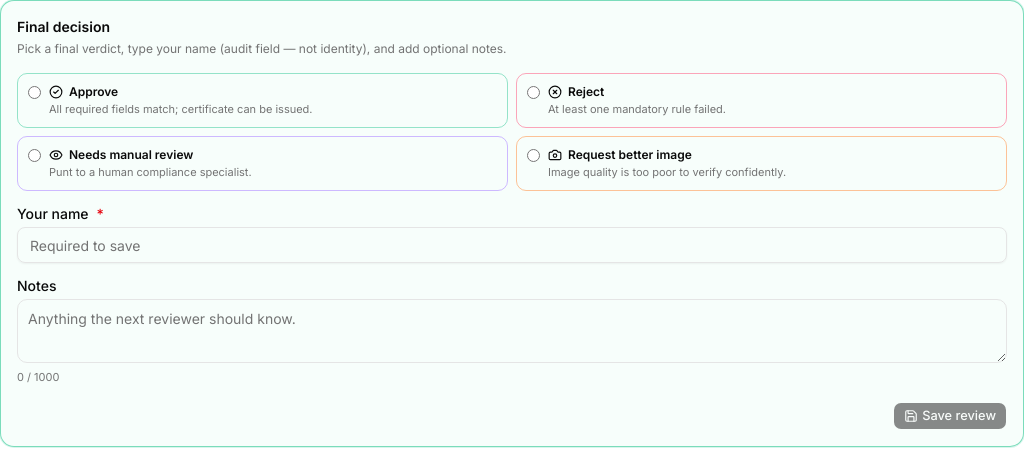
Test case: FinalDecisionPanel › requires both a reviewer name and a decision before save is enabled
This screenshot has width=1024, height=465.
Expected: the button "Save review" is disabled, [893,402,1007,430]
Click the radio button labelled "Approve": click(34, 92) [28,86,41,99]
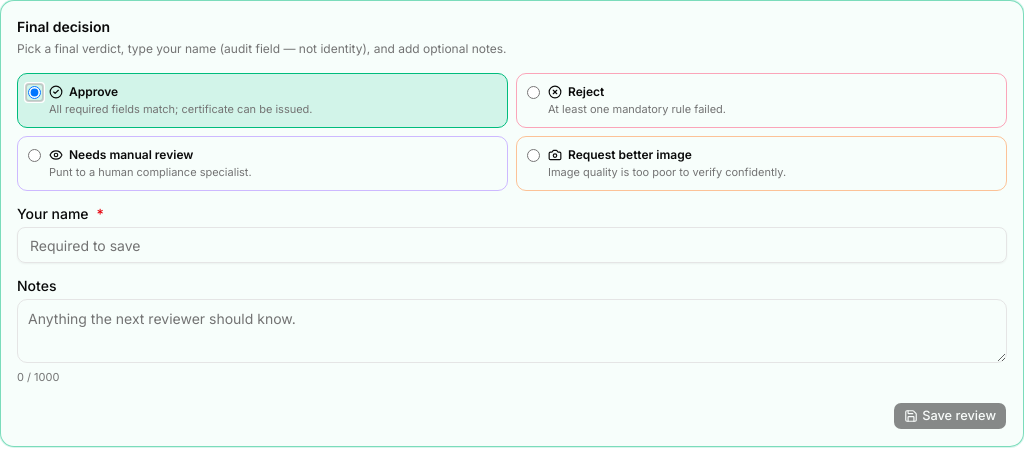
Expected: the button "Save review" is disabled, [893,402,1007,430]
In the field labelled "Your name *": (512, 245) [17,227,1007,263], type "Jane Doe"
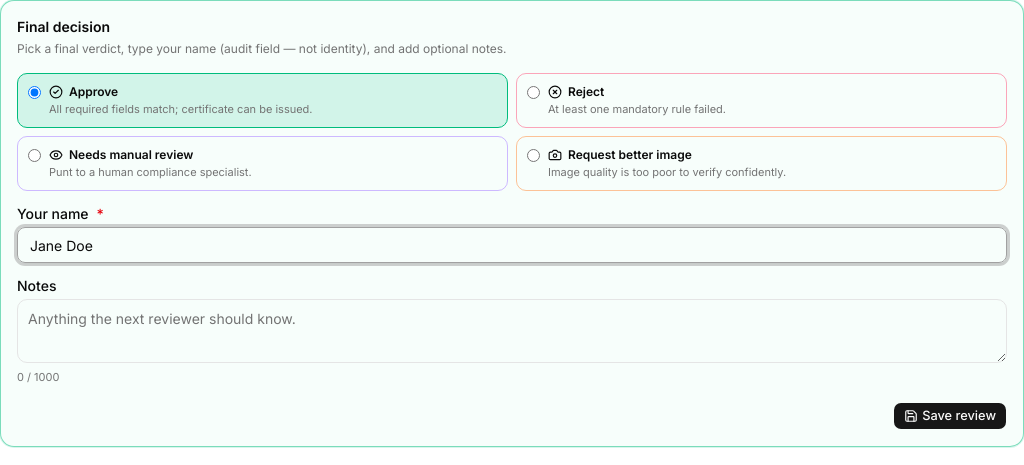
Now the button "Save review" is enabled, box [893,402,1007,430]
